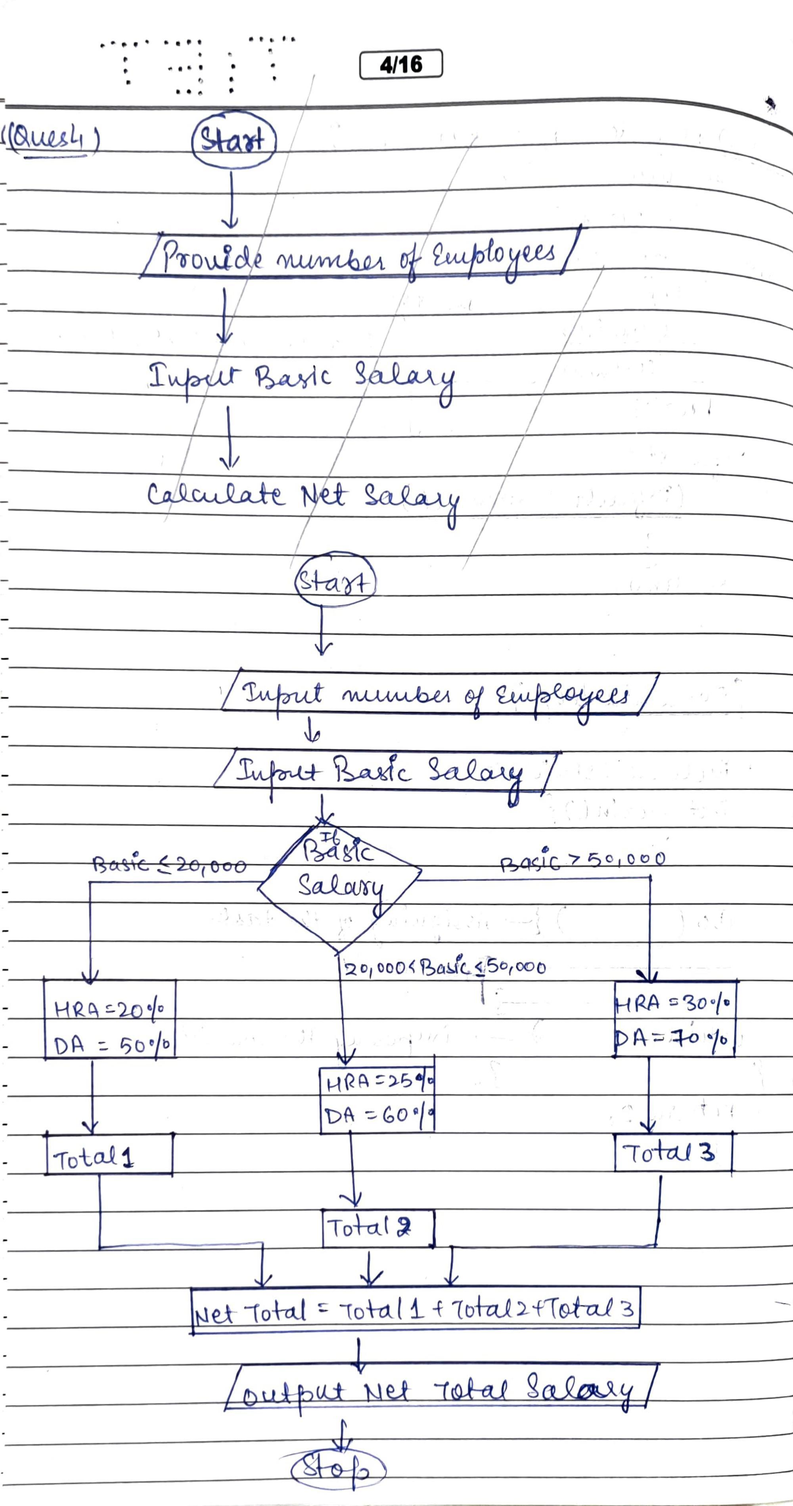cuttings: (136, 73, 606, 572)
